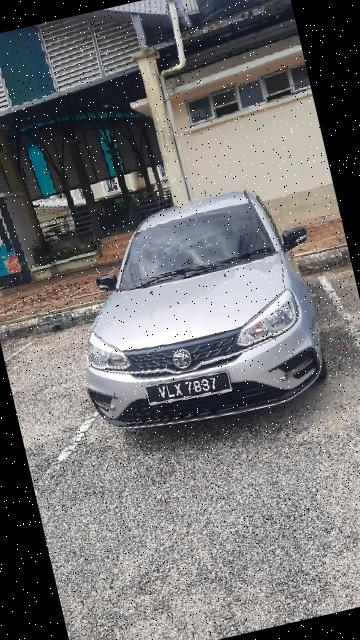License_Plate: (145, 365, 237, 414)
car: (51, 177, 338, 450)
